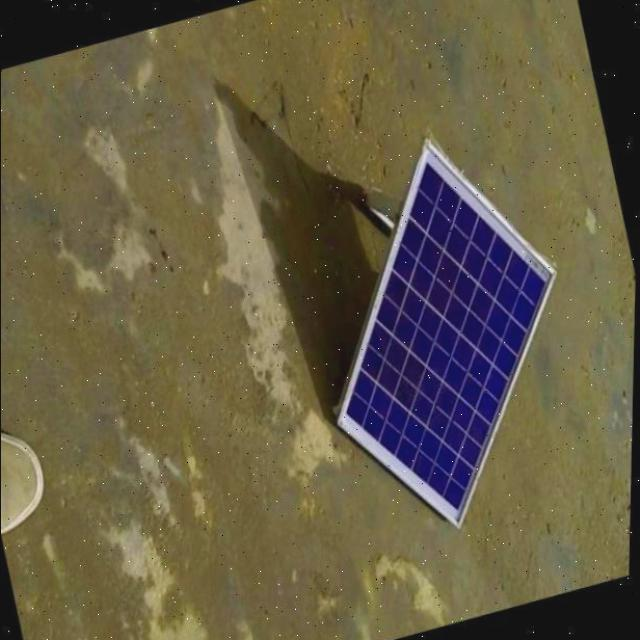Normal Solar Panel: (280, 106, 610, 554)
